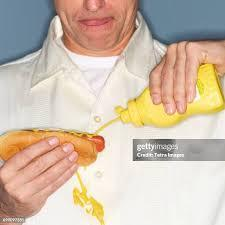mustard: (74, 180, 107, 222)
